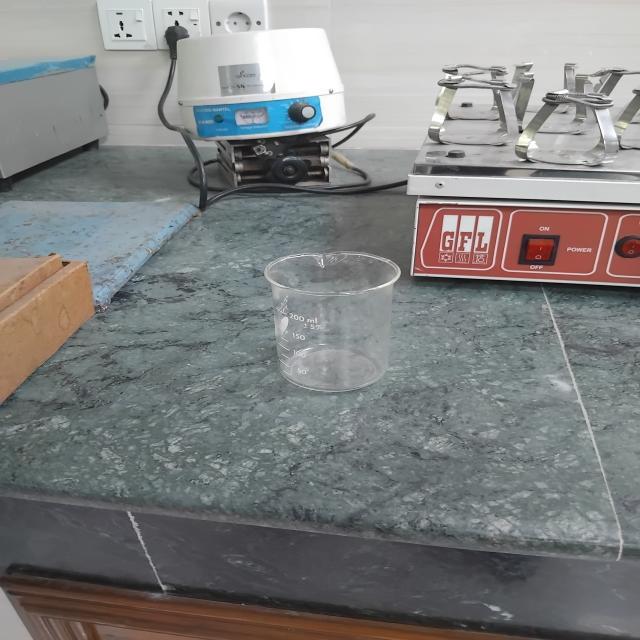Beaker: (224, 226, 426, 402)
